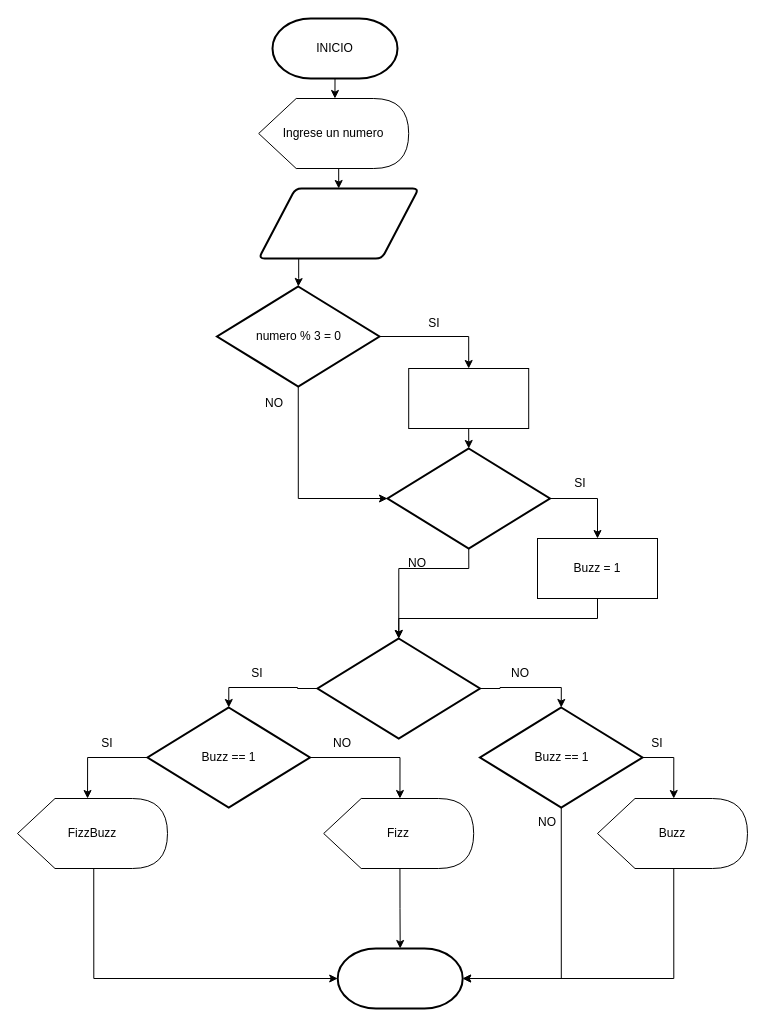
This 765x1026 diagram has some shape labels left out. Each missing label, with the centre of its shape:
FIN: (399,978)
Fizz = 1: (468,398)
Fizz == 1: (398,688)
numero: (338,223)
numero % 5 = 0: (468,498)
